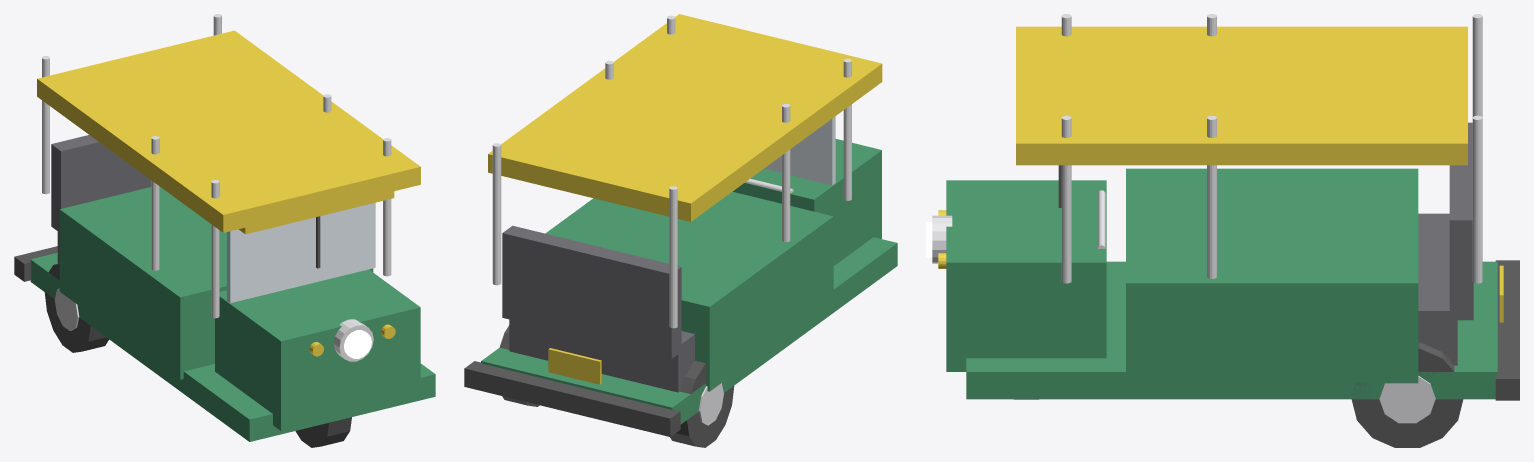
Rendered from prop_auto_rickshaw.glb.
3 views of the same model, side by side, from view 1: azimuth 30°, elevation 25°; view 2: azimuth 150°, elevation 25°; view 3: azimuth 270°, elevation 25° (orthographic). The views are drawn at different scales.
Visible parts, largest first — view 1: Yellow_Roof, Body_Front_Nose, Body_Rear_Tub, Windshield_Glass, Chassis_Floor, Passenger_Seat_Back, Wheel_Rear_-1, Roof_Front_Peak, Wheel_Front, A_Pillar, B_Pillar, C_Pillar (+5 smaller); view 2: Yellow_Roof, Body_Rear_Tub, Passenger_Seat_Back, Chassis_Floor, Body_Front_Nose, Rear_Bumper, Passenger_Seat_Base, Windshield_Glass, Wheel_Rear_-1, C_Pillar.001, License_Plate, C_Pillar (+3 smaller); view 3: Yellow_Roof, Body_Rear_Tub, Body_Front_Nose, Chassis_Floor, Passenger_Seat_Base, Wheel_Rear_1, Passenger_Seat_Back, Rear_Bumper, Wheel_Rear_Hub_1, C_Pillar.001, A_Pillar.001, B_Pillar.001 (+2 smaller).
Boxes of the visible parts, left/top/right/bottom form: Yellow_Roof: left=37, top=30, right=420, bottom=232; Body_Front_Nose: left=215, top=269, right=420, bottom=431; Body_Rear_Tub: left=59, top=187, right=373, bottom=379; Windshield_Glass: left=227, top=202, right=375, bottom=302; Chassis_Floor: left=30, top=253, right=435, bottom=441; Passenger_Seat_Back: left=51, top=135, right=151, bottom=232; Wheel_Rear_-1: left=44, top=263, right=108, bottom=352; Roof_Front_Peak: left=239, top=191, right=394, bottom=234; Wheel_Front: left=295, top=417, right=351, bottom=447; A_Pillar: left=211, top=180, right=219, bottom=318; B_Pillar: left=151, top=136, right=159, bottom=270; C_Pillar: left=42, top=56, right=49, bottom=194; Yellow_Roof: left=488, top=14, right=882, bottom=221; Body_Rear_Tub: left=545, top=191, right=833, bottom=391; Passenger_Seat_Back: left=502, top=225, right=681, bottom=358; Chassis_Floor: left=481, top=237, right=897, bottom=424; Body_Front_Nose: left=733, top=139, right=881, bottom=265; Rear_Bumper: left=464, top=361, right=680, bottom=436; Passenger_Seat_Base: left=509, top=319, right=694, bottom=392; Windshield_Glass: left=764, top=116, right=835, bottom=185; Wheel_Rear_-1: left=670, top=360, right=734, bottom=447; C_Pillar.001: left=492, top=143, right=501, bottom=285; License_Plate: left=548, top=348, right=601, bottom=384; C_Pillar: left=669, top=186, right=677, bottom=328; Yellow_Roof: left=1016, top=26, right=1467, bottom=165; Body_Rear_Tub: left=1126, top=168, right=1418, bottom=383; Body_Front_Nose: left=946, top=180, right=1106, bottom=371; Chassis_Floor: left=966, top=261, right=1497, bottom=399; Passenger_Seat_Base: left=1418, top=213, right=1457, bottom=365; Wheel_Rear_1: left=1351, top=342, right=1463, bottom=447; Passenger_Seat_Back: left=1449, top=122, right=1473, bottom=320; Rear_Bumper: left=1495, top=260, right=1519, bottom=400; Wheel_Rear_Hub_1: left=1379, top=376, right=1435, bottom=423; C_Pillar.001: left=1472, top=115, right=1482, bottom=283; A_Pillar.001: left=1061, top=115, right=1071, bottom=283; B_Pillar.001: left=1207, top=115, right=1216, bottom=278.
Size of the model in its own units: 1.4 by 1.79 by 2.96.
